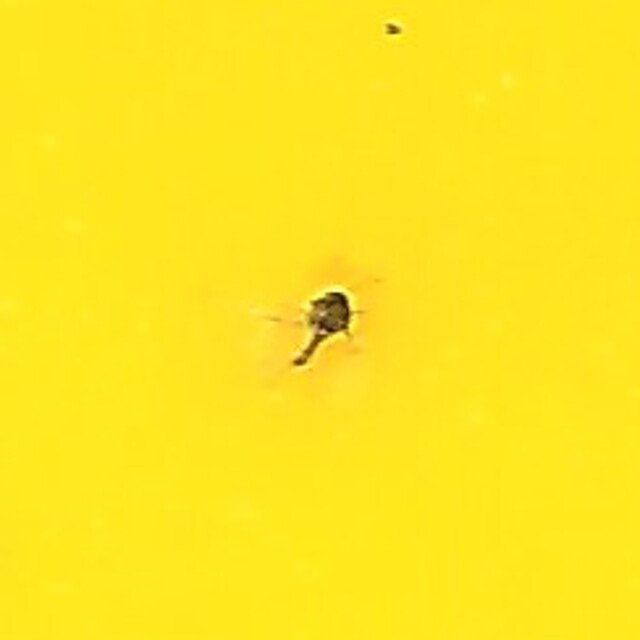Nematocera: (262, 261, 378, 379)
